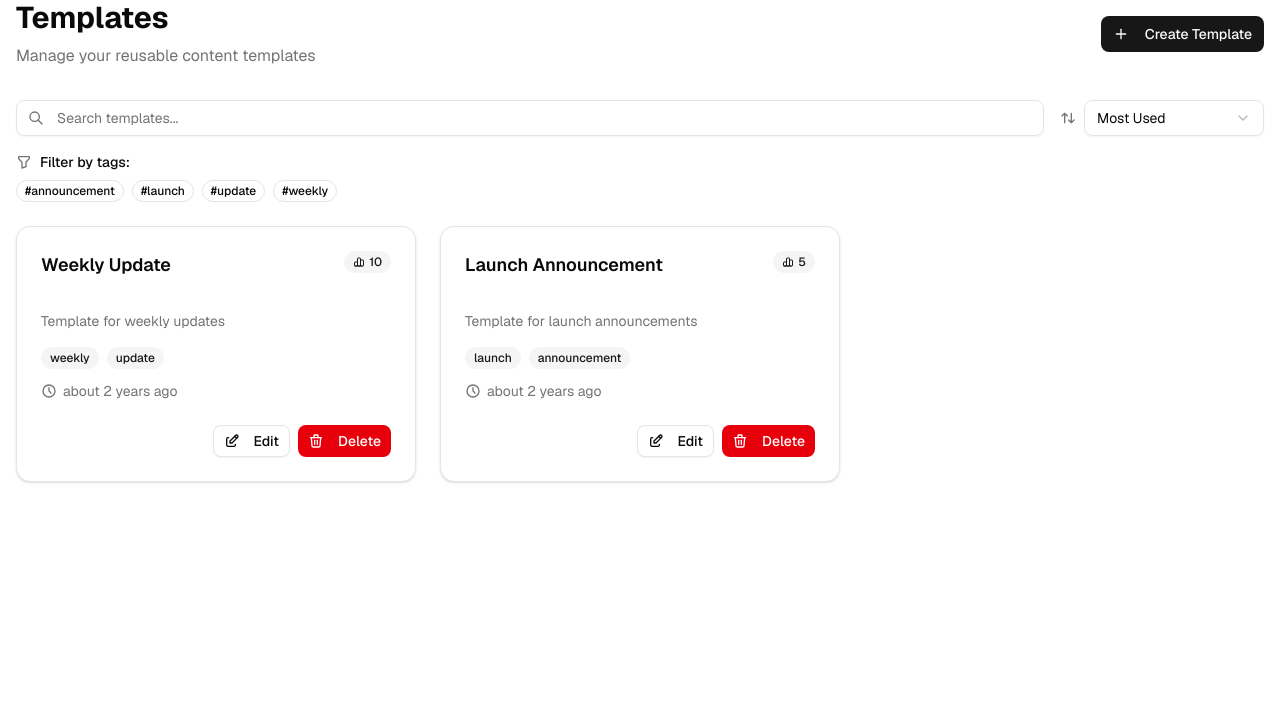
TemplateLibrary Component › Delete Template › should open delete confirmation dialog when clicking delete
Click delete on first template
Click the button "Delete" below "Template for weekly updates": (344, 441) [298,425,391,457]
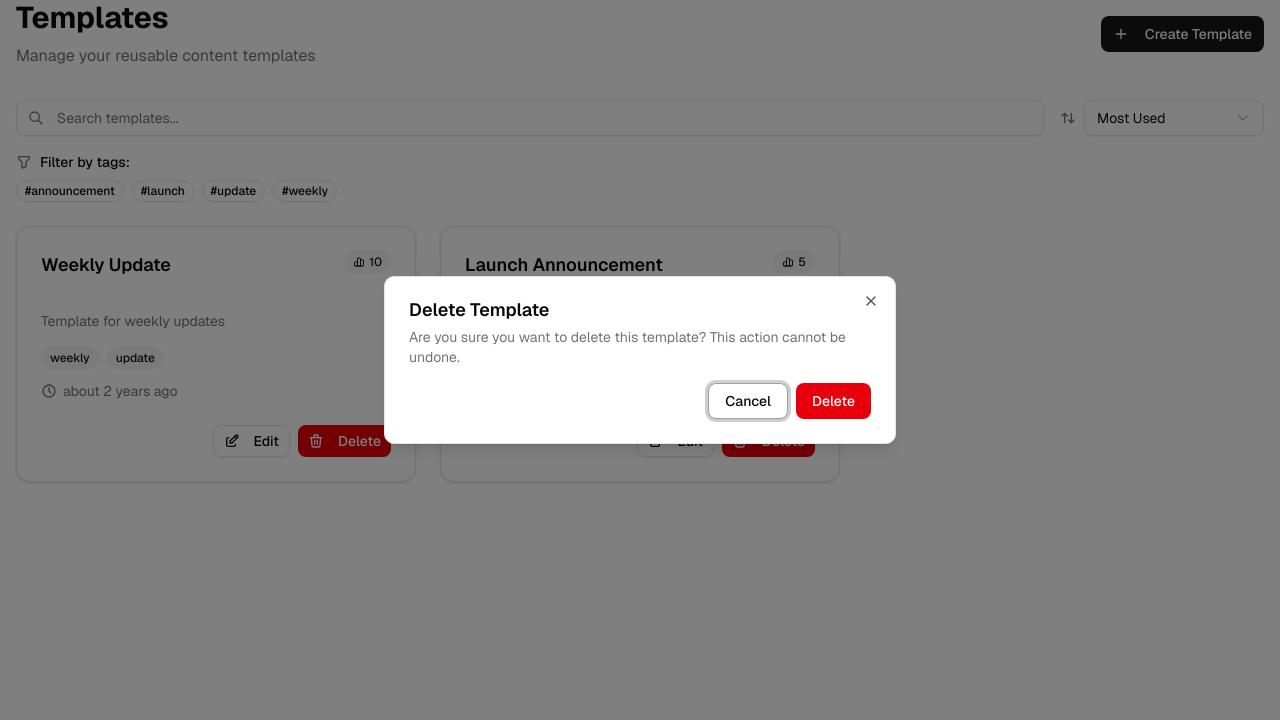
Now the heading "Delete Template" is shown, box [409,298,550,321]
Now the text "Are you sure you want to delete this template? This action cannot be undone." is shown, box [409,327,871,367]
